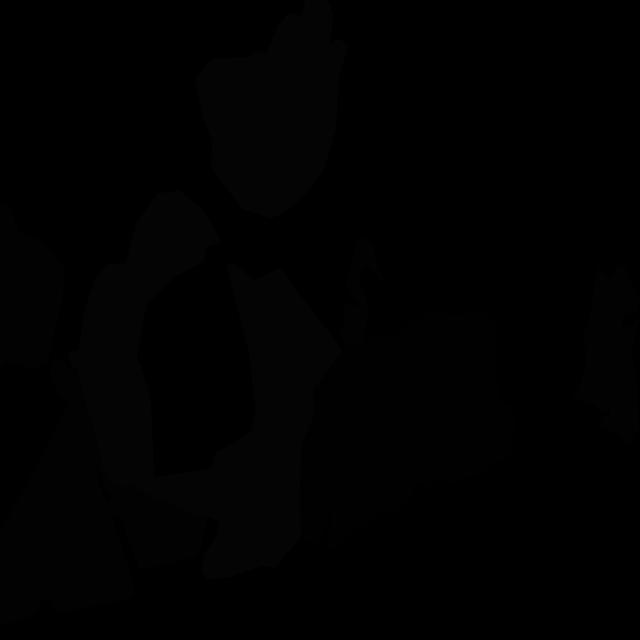cardboard: (50, 357, 208, 570), (0, 423, 134, 625), (573, 264, 640, 444), (0, 201, 64, 372), (340, 237, 386, 346)
rigid_plastic: (300, 310, 517, 551)
soft_plastic: (67, 189, 343, 579), (194, 0, 348, 218)
